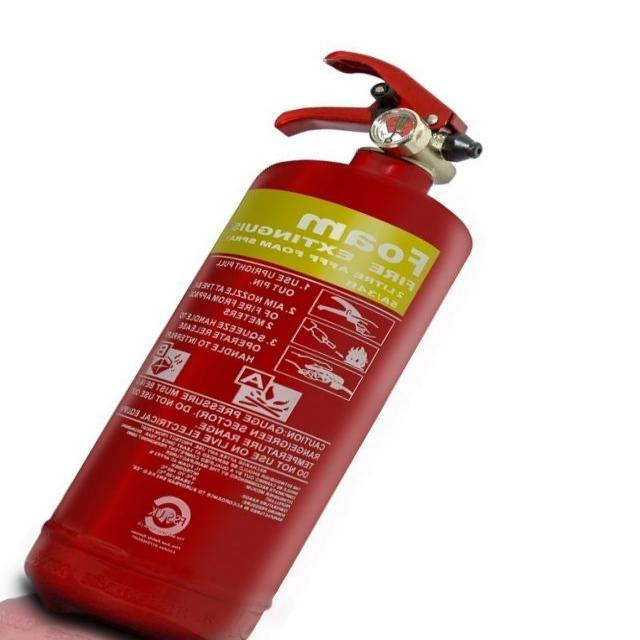fire_extinguisher: (11, 43, 492, 639)
